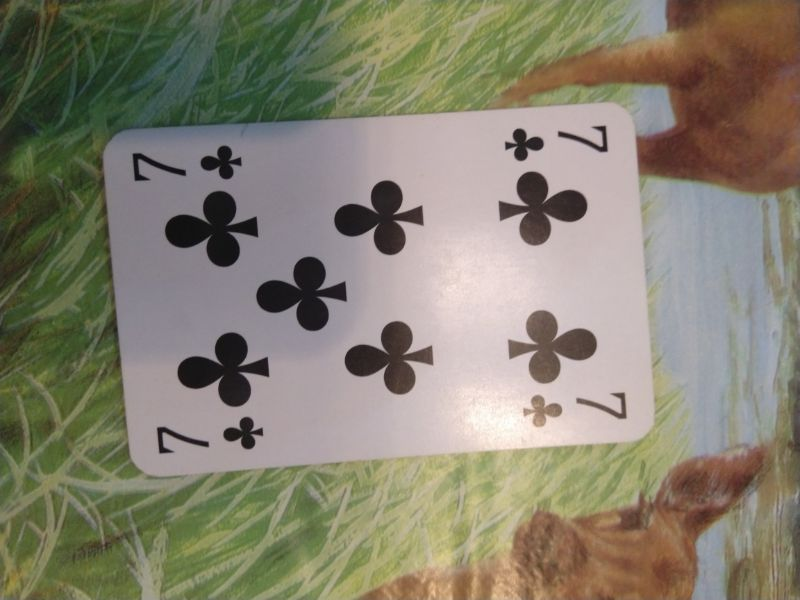7c: (151, 411, 270, 461), (127, 139, 245, 187), (521, 382, 632, 432), (502, 118, 614, 164)
